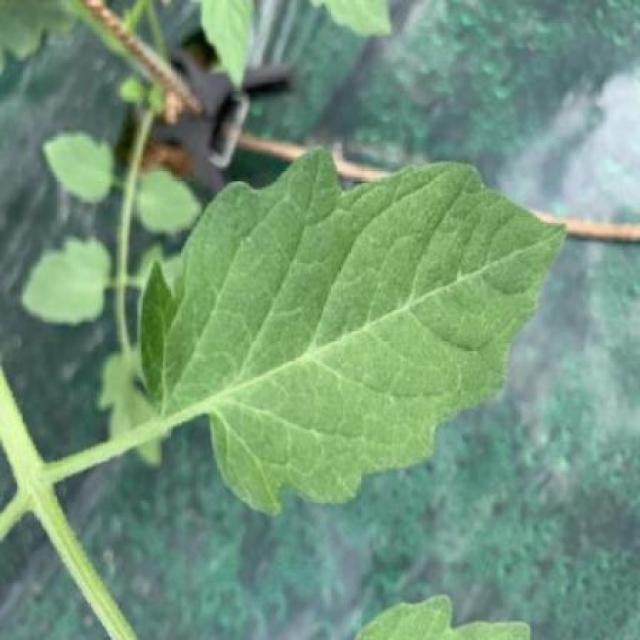Healthy: (139, 146, 566, 517)
